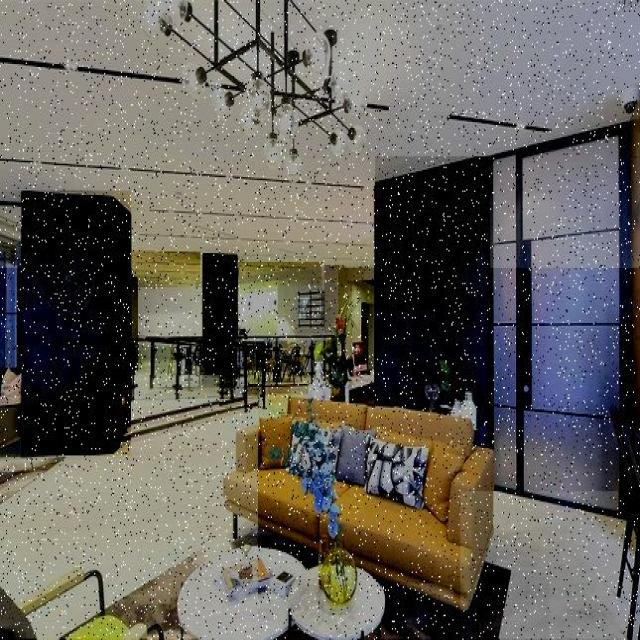Wall: (0, 0, 640, 268), (0, 408, 258, 639), (375, 157, 490, 429), (22, 192, 131, 455), (0, 66, 266, 173), (461, 493, 629, 639), (0, 0, 187, 73), (238, 278, 322, 335), (30, 581, 97, 639), (382, 585, 453, 639), (131, 377, 219, 418), (139, 287, 200, 335), (203, 253, 237, 336), (132, 253, 200, 287), (239, 263, 321, 286), (325, 266, 339, 332), (268, 388, 291, 414), (249, 373, 259, 399)
